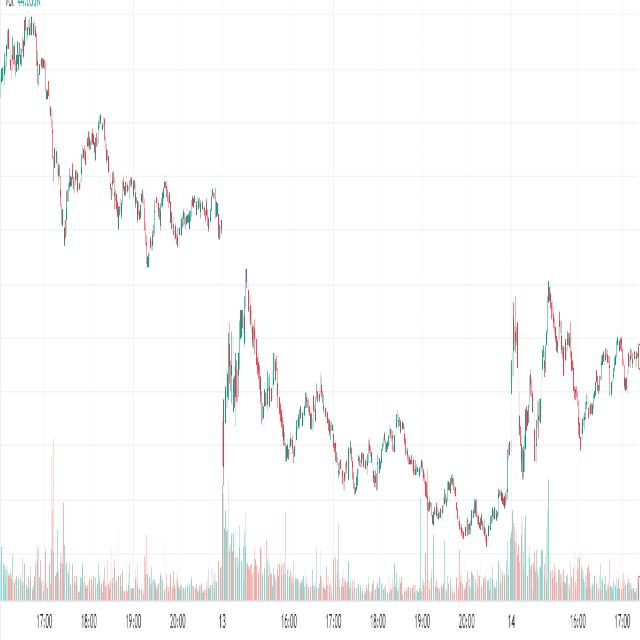Double-Bottom: (515, 360, 547, 487), (280, 430, 302, 471)
Head-Shoulders: (216, 251, 287, 469)
Inverse-Head-Shoulders: (46, 133, 85, 255)
